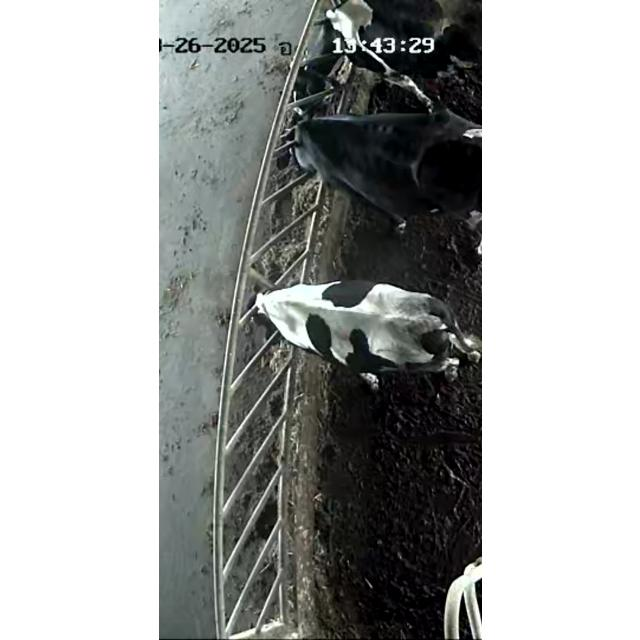eat: (214, 92, 410, 215), (198, 258, 339, 369)
